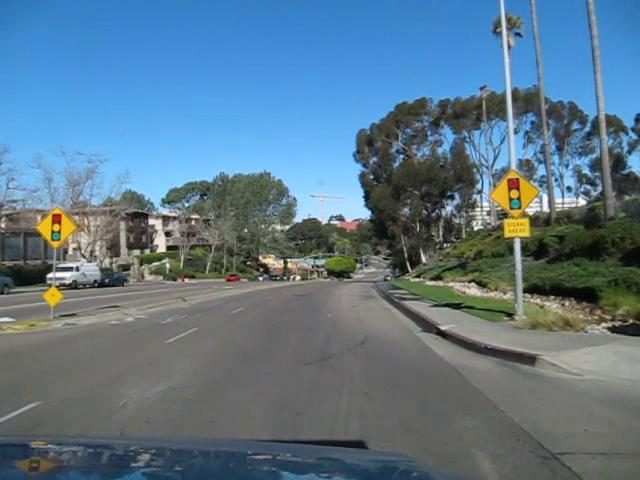signalAhead: (488, 168, 540, 218), (34, 207, 78, 248)
